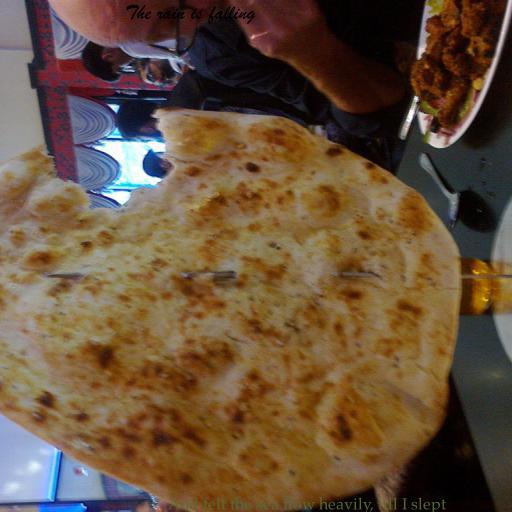Brush Script MT: (125, 4, 255, 25)
Palatino: (168, 496, 446, 512)
